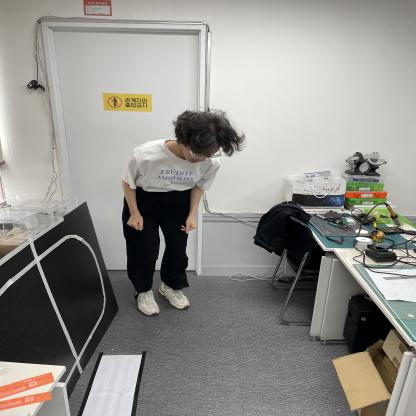normal: (125, 108, 237, 319)
